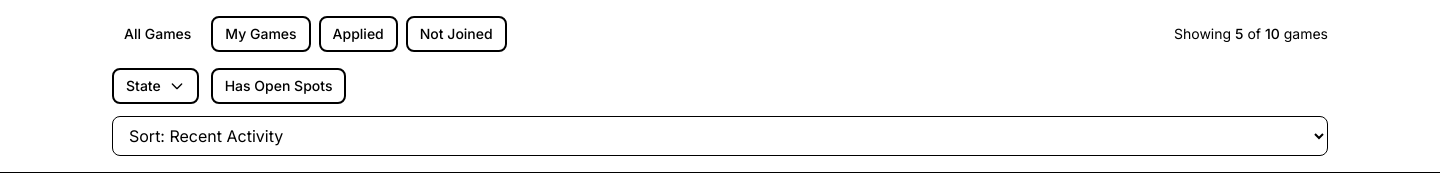
Test case: FilterBar › Edge Cases › handles empty available states
Click the button "State": (155, 86) [112,68,199,104]
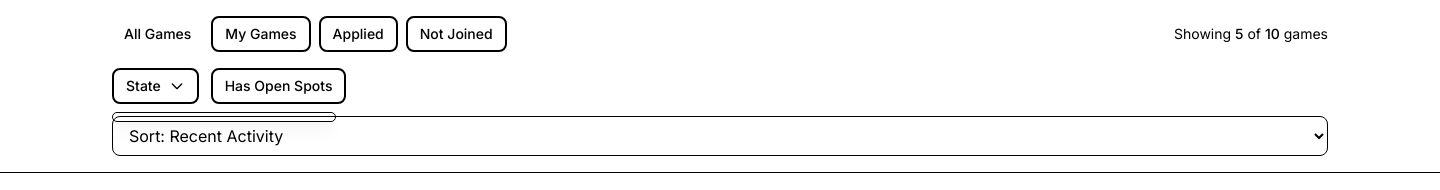
expect the element with class "z-10" is shown: met, box [112,112,336,122]
